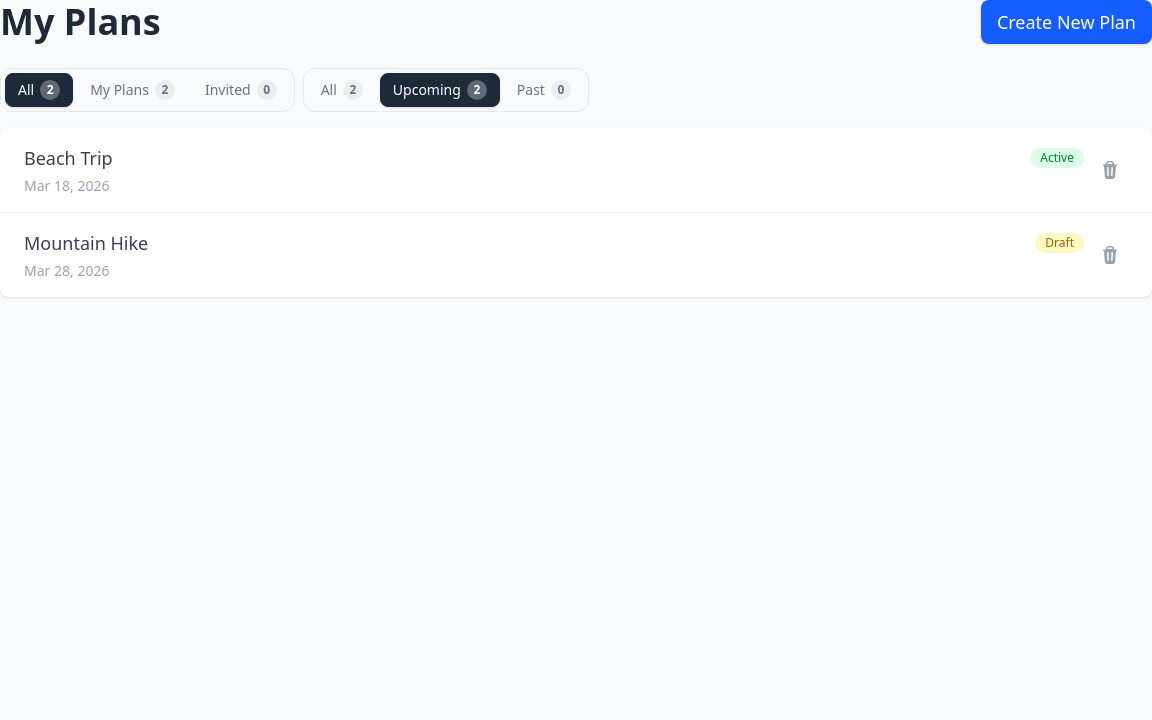
it: PlansList › admin delete › closes modal when cancel is clicked
The image size is (1152, 720).
Click the button with test id "admin-delete-plan-1".
click(1110, 170)  # box [1092,152,1128,188]
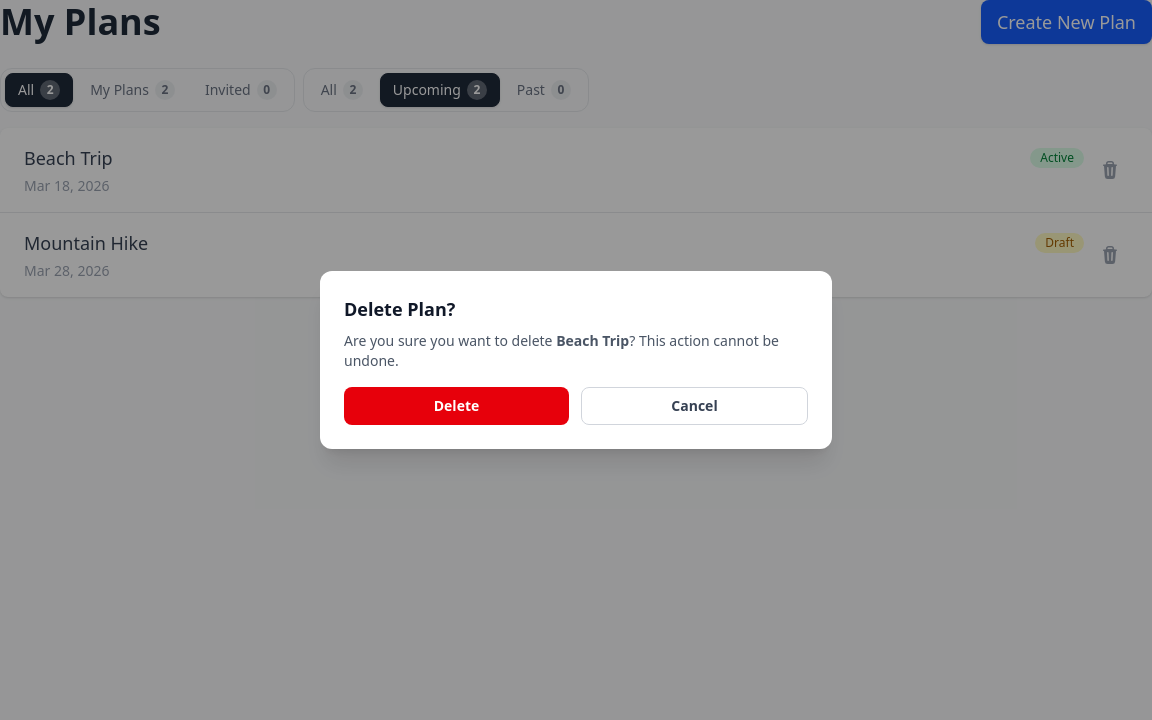
Expected: the heading "Delete Plan?" is shown, [344,295,455,323]
Click the button with test id "admin-delete-cancel".
click(694, 406)  # box [581,387,808,425]
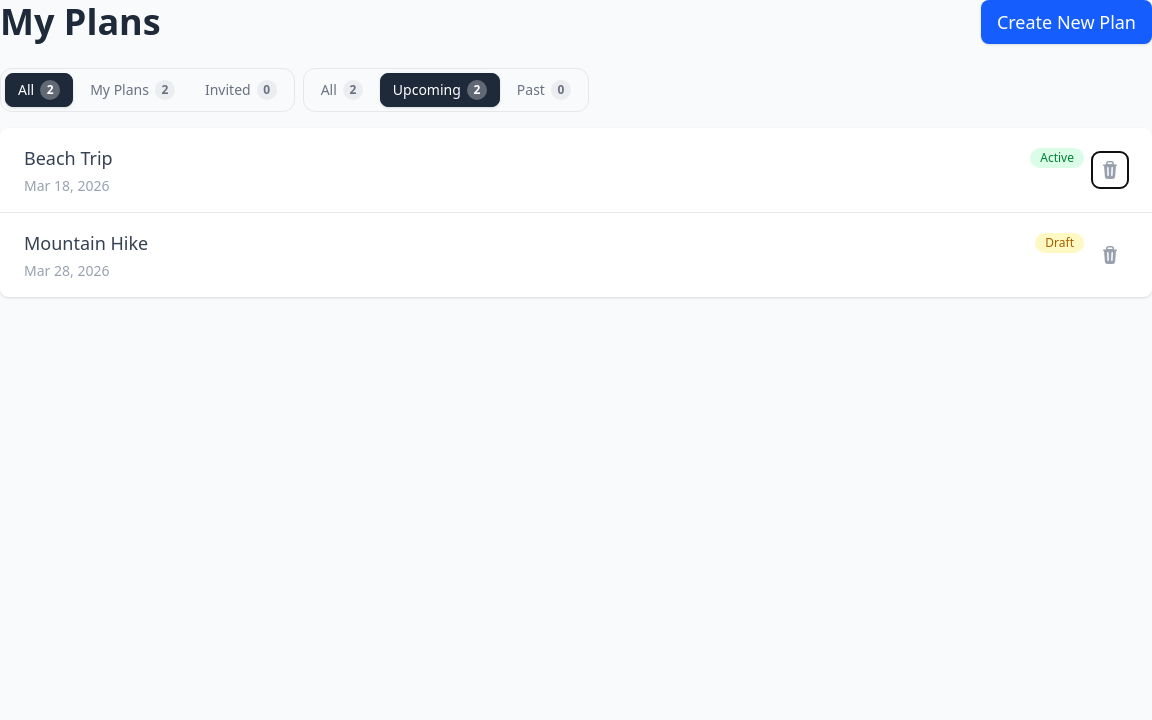
Expected: the heading "Delete Plan?" is gone
